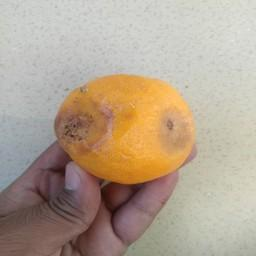Bad_orange: (52, 73, 197, 180)
